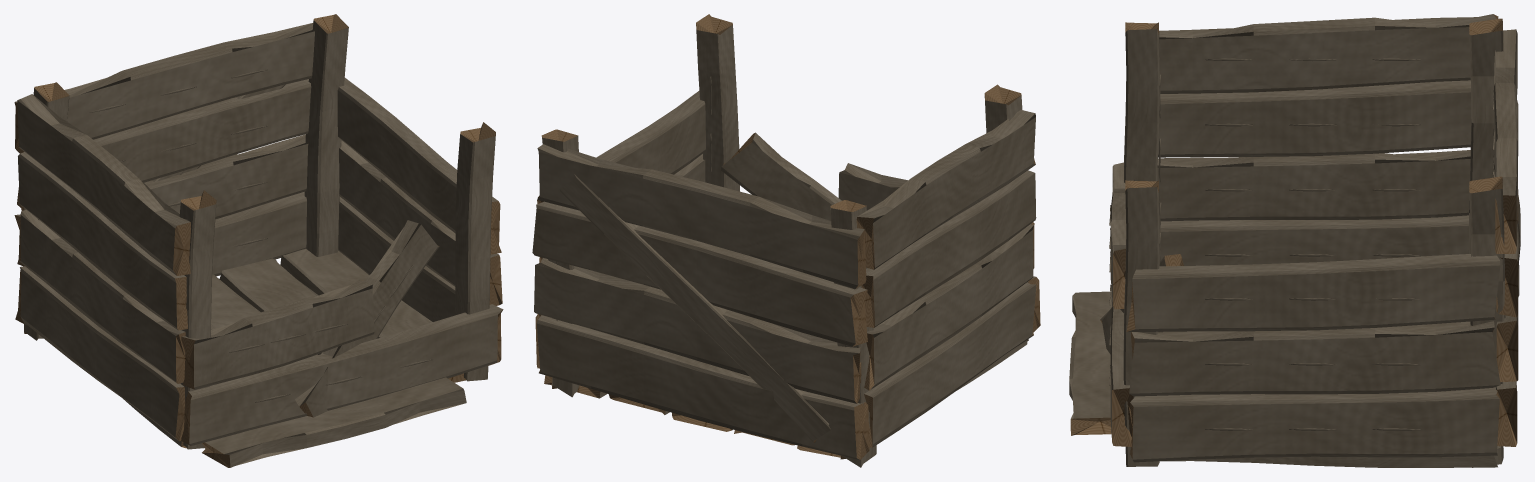
Rendered from crate_broken.fbx.
3 renders of one model, left to right at view 1: azimuth 30°, elevation 25°; view 2: azimuth 150°, elevation 25°; view 3: azimuth 270°, elevation 25°, orthographic. The views are drawn at different scales.
Visible parts, largest first — view 1: crate_broken; view 2: crate_broken; view 3: crate_broken.
Boxes of the visible parts, x1,y1,x2,y2 form: crate_broken: (14,14,503,467); crate_broken: (532,14,1040,467); crate_broken: (1069,14,1520,467).
Size of what is drawn, in the model's own units: 0.9136 by 0.6713 by 0.9416.
1 material, 1 textured.
